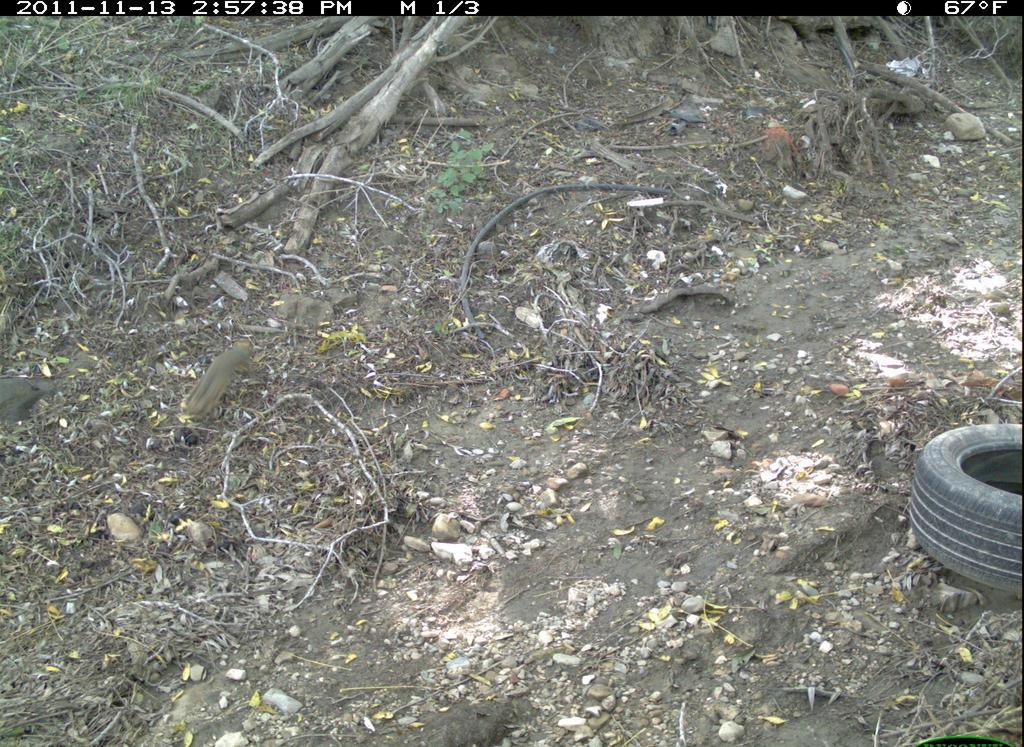squirrel: (185, 329, 264, 445)
